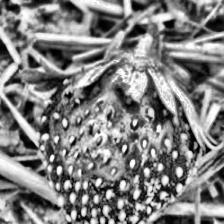Gray Mold: (52, 66, 152, 182)
